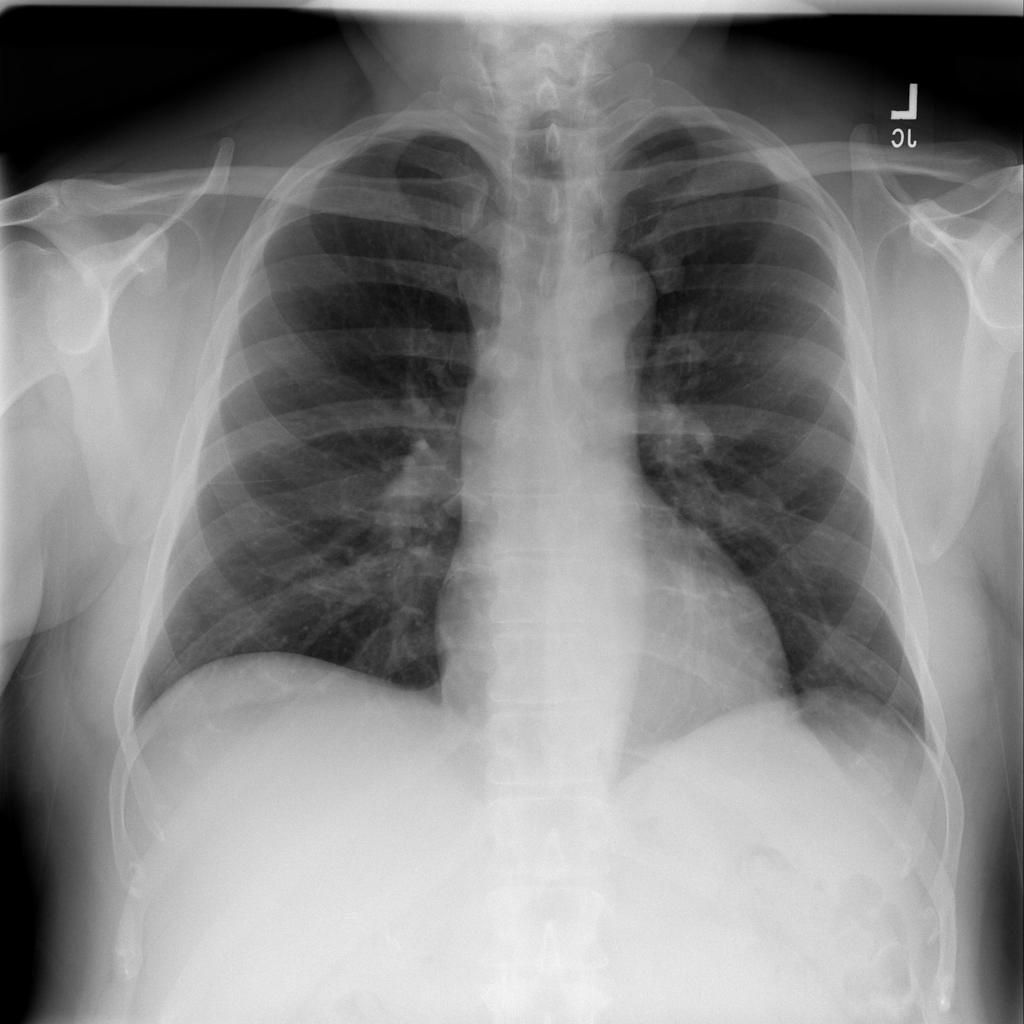nodule: (634, 236, 702, 306)
